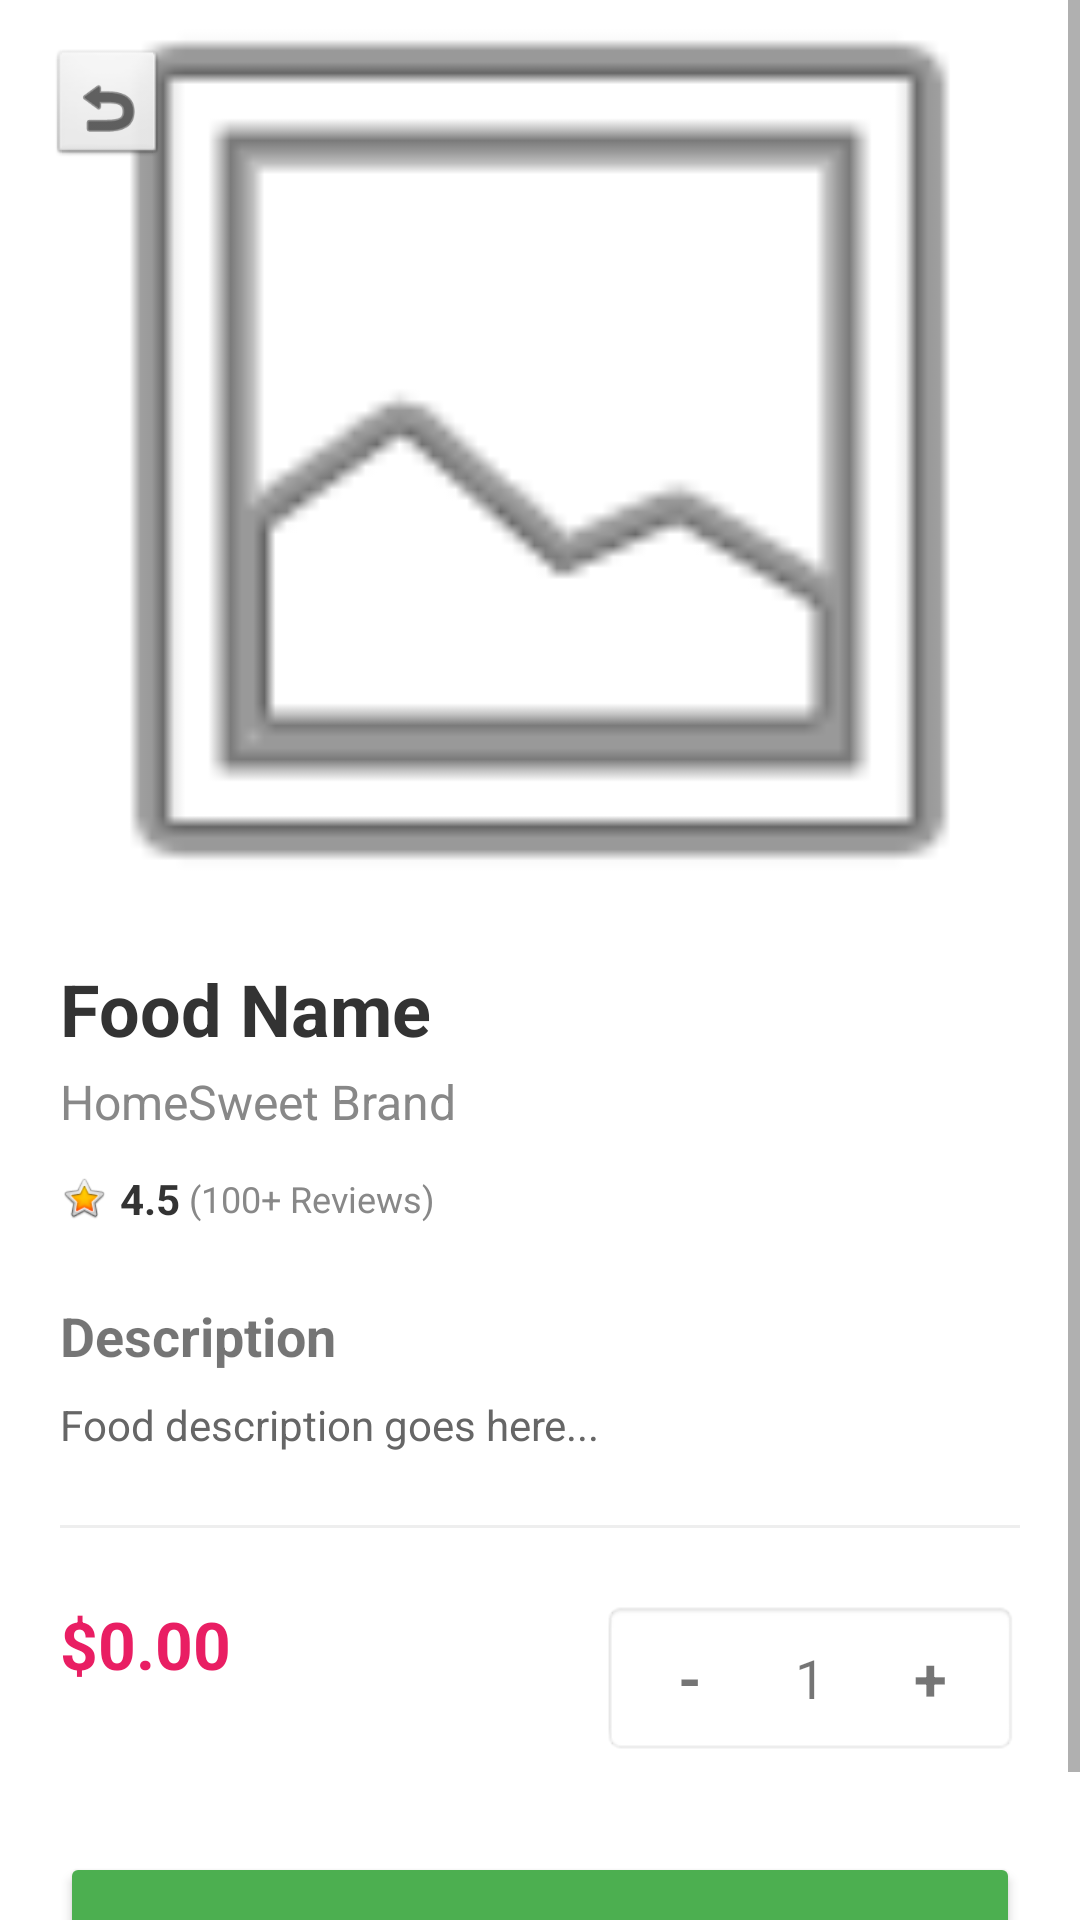

Icons on this 1080x1920 Android screen, each with its box as (x1=x1, y1=y1, x2=x2, y2=y2):
revert: (x1=56, y1=48, x2=168, y2=168)
star on: (x1=64, y1=1179, x2=104, y2=1218)
